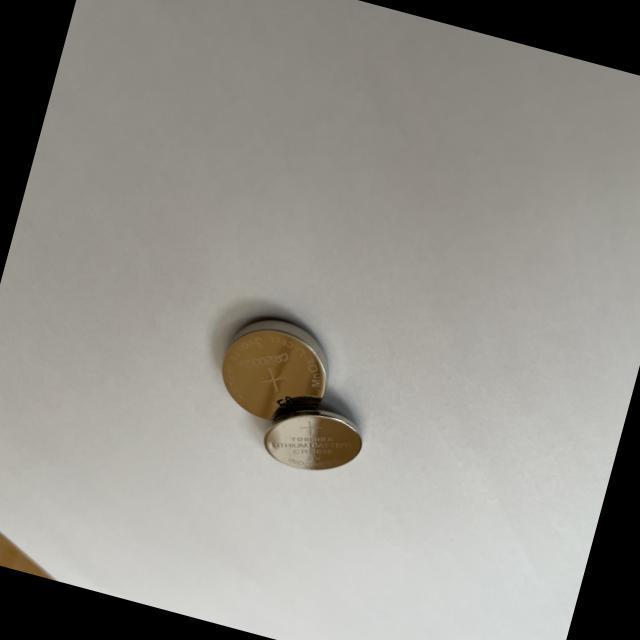COIN: (209, 306, 339, 430), (259, 392, 371, 483)
